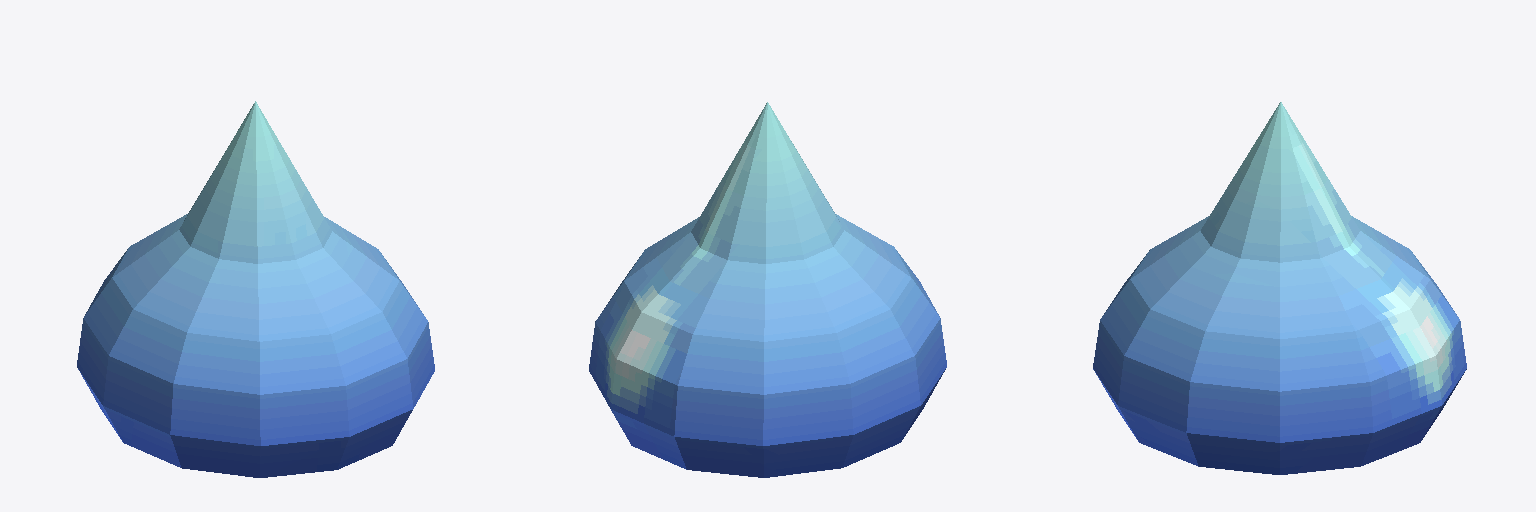
3 views of the same model, side by side, from view 1: azimuth 30°, elevation 25°; view 2: azimuth 150°, elevation 25°; view 3: azimuth 270°, elevation 25° (orthographic).
Parts seen in each view (by area): view 1: Mesh.206_DrawCall_328; view 2: Mesh.206_DrawCall_328; view 3: Mesh.206_DrawCall_328.
Boxes of the visible parts, x1=… form: Mesh.206_DrawCall_328: x1=77, y1=101, x2=434, y2=477; Mesh.206_DrawCall_328: x1=589, y1=102, x2=946, y2=477; Mesh.206_DrawCall_328: x1=1093, y1=102, x2=1466, y2=474.
Bounding box in the file's own units: 10.4 × 10.04 × 11.01.
2 materials, 2 textured.